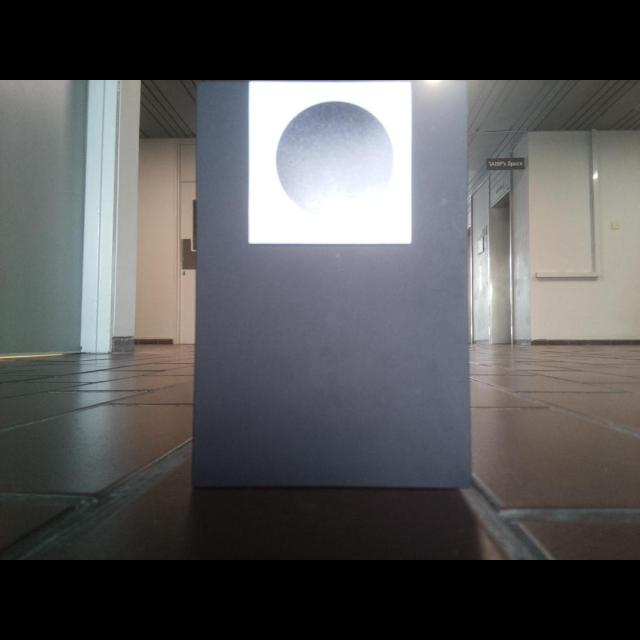CIRCLE: (272, 96, 399, 225)
